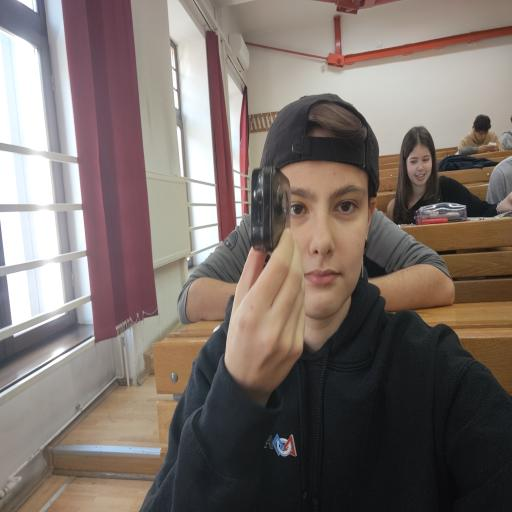CASTI: (248, 162, 292, 252)
